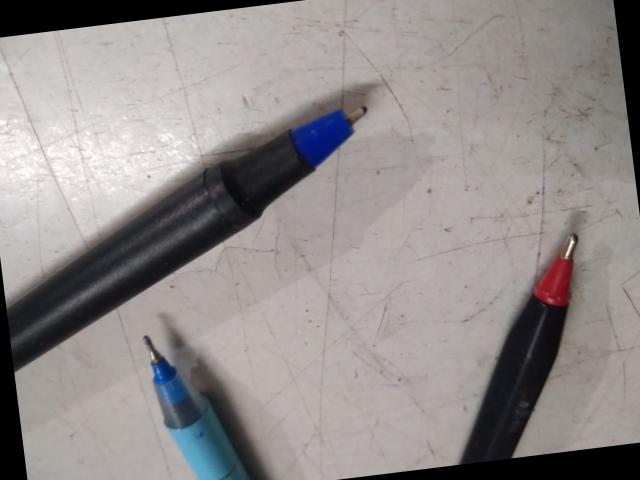PEN: (17, 16, 206, 259), (362, 0, 539, 169)
